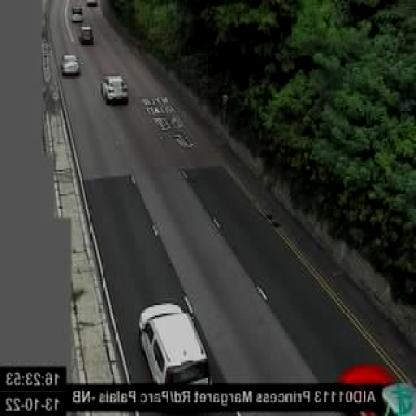Car: (138, 301, 217, 387), (100, 74, 131, 105), (60, 54, 79, 75), (80, 24, 94, 46), (70, 6, 82, 20)
